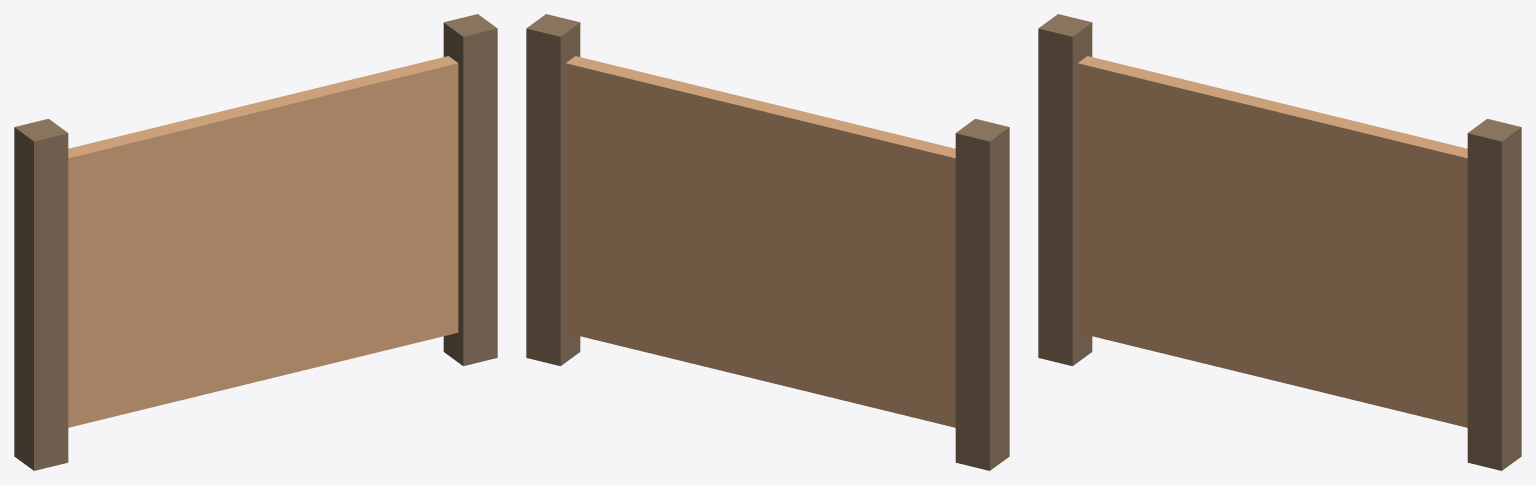
The model's file is Prop_Live_AMF_Gate_V9.glb.
The picture shows the model from 3 angles, left to right: view 1: azimuth 30°, elevation 25°; view 2: azimuth 150°, elevation 25°; view 3: azimuth 330°, elevation 25°; orthographic projection.
Visible parts, largest first — view 1: Prop_Live_AMF_Gate_V9; view 2: Prop_Live_AMF_Gate_V9; view 3: Prop_Live_AMF_Gate_V9.
Boxes of the visible parts, x1=… form: Prop_Live_AMF_Gate_V9: x1=14, y1=14, x2=497, y2=470; Prop_Live_AMF_Gate_V9: x1=526, y1=14, x2=1009, y2=470; Prop_Live_AMF_Gate_V9: x1=1038, y1=14, x2=1521, y2=470.
Size of the model in its own units: 1.62 by 1.1 by 0.12.
